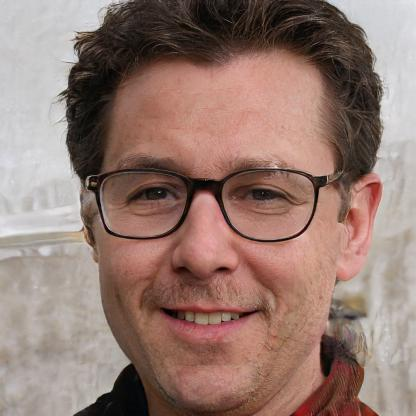glasses: (85, 164, 329, 250)
